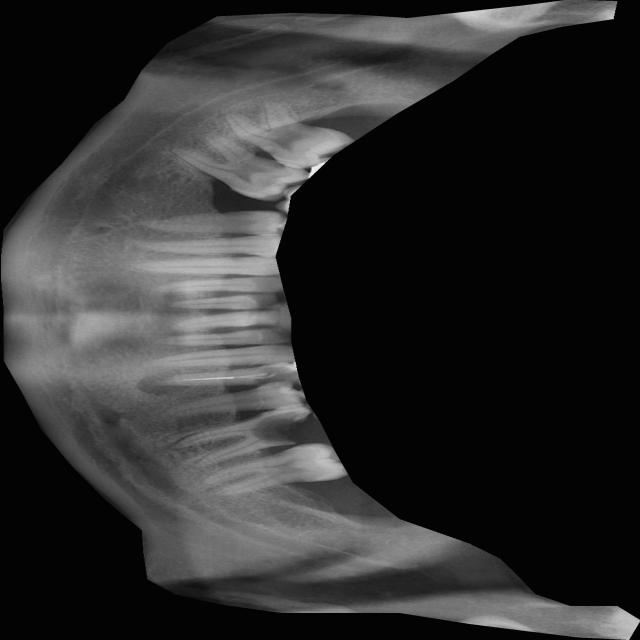mandibula: (0, 0, 640, 640)
